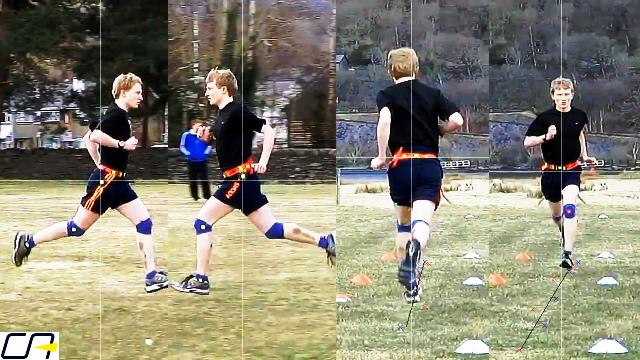berlari: (167, 71, 337, 298), (8, 62, 165, 300), (362, 48, 460, 312), (518, 71, 606, 276)
